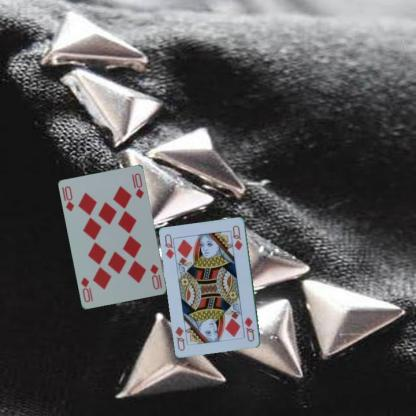10d: (148, 262, 164, 290), (60, 184, 76, 212)
Qd: (162, 232, 178, 261), (242, 314, 256, 343)
